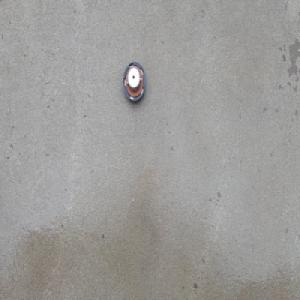FuelCap: (123, 60, 146, 103)
